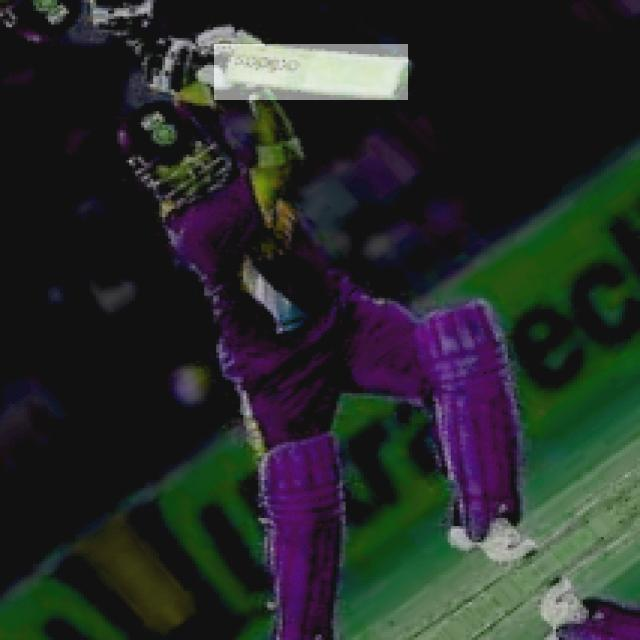bat: (217, 45, 411, 104)
toe: (366, 63, 432, 109)
